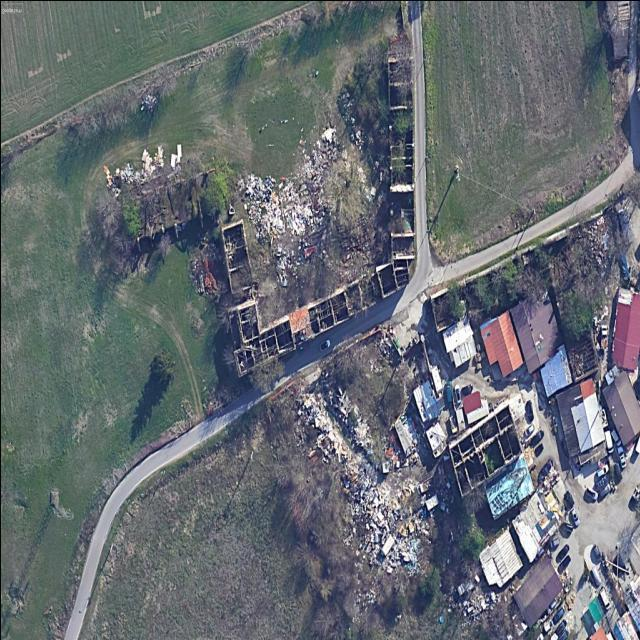dump_site: (291, 375, 433, 587), (261, 118, 341, 268), (230, 154, 289, 244), (450, 586, 496, 622)
